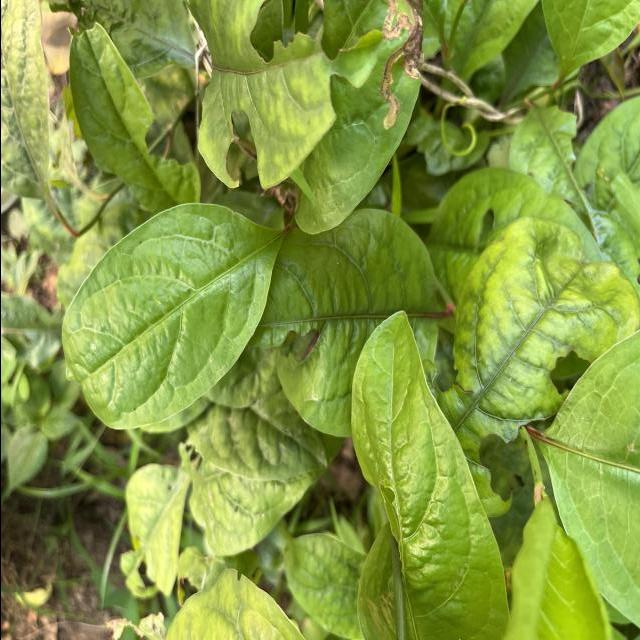Plumbago indica: (55, 199, 284, 428)
